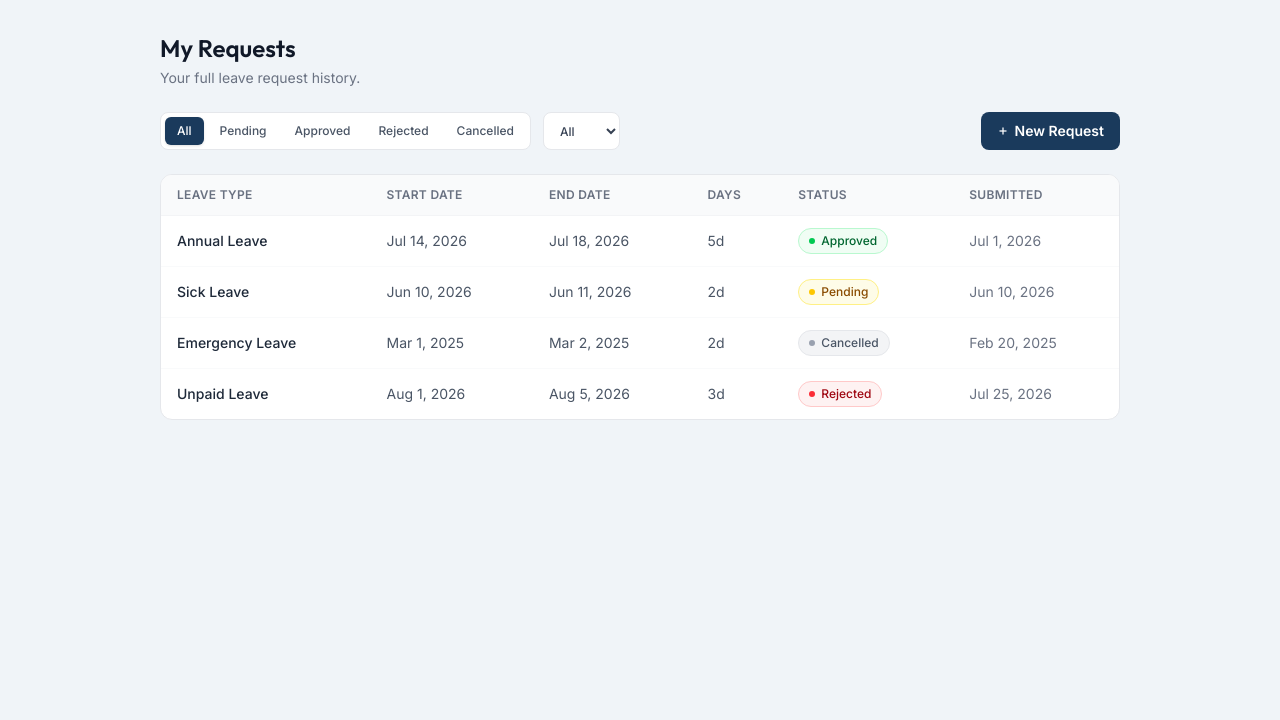
MyRequests detail modal › shows full detail incl. managerNote and does not fetch a doc when none exists
The image size is (1280, 720).
Check: the text "Annual Leave" is shown, box [161,216,370,266]
Click the button with aria-label "View details for 11111111-1111-4111-8111-111111111111".
click(222, 240)  # box [161,216,1119,266]
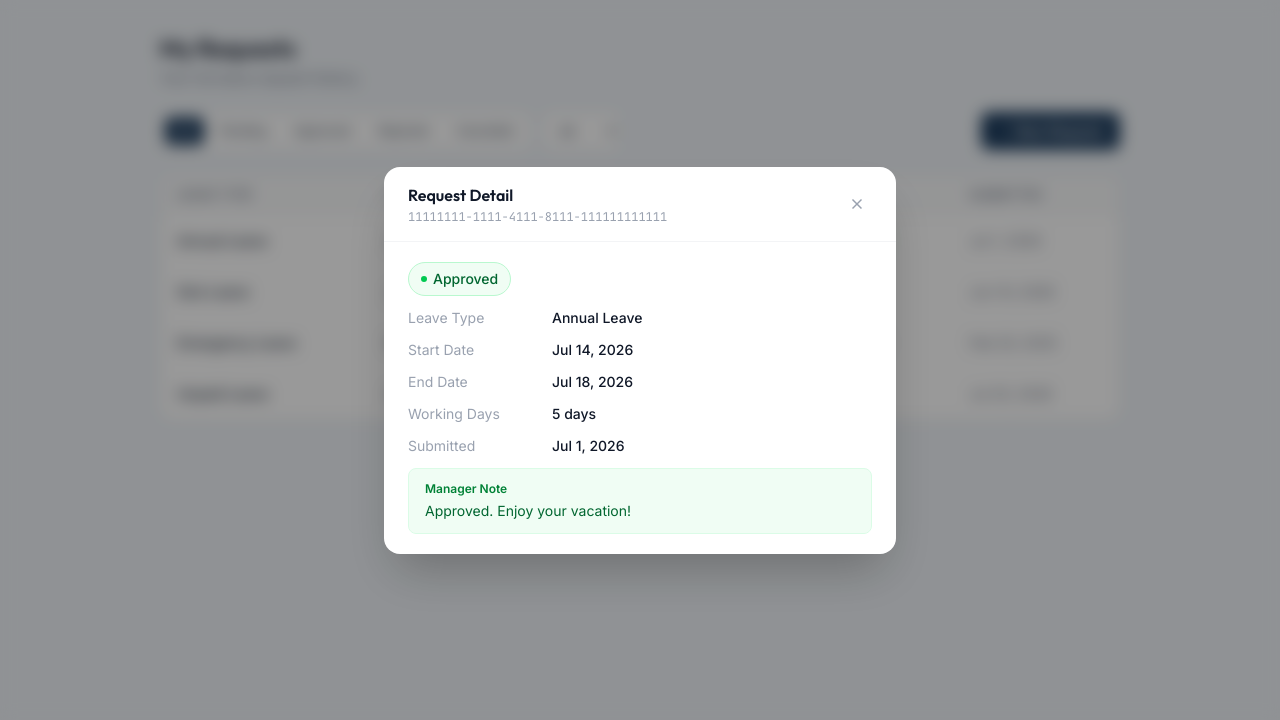
Check: the dialog is shown
Check: the text "Approved. Enjoy your vacation!" is shown, box [425,502,631,518]
Check: the text "Jul 1, 2026" is shown, box [552,436,624,454]
